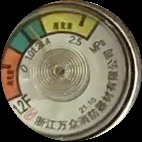green: (10, 16, 47, 55)
needle: (29, 24, 48, 53)
red: (1, 47, 25, 103)
yellow: (41, 4, 101, 39)
